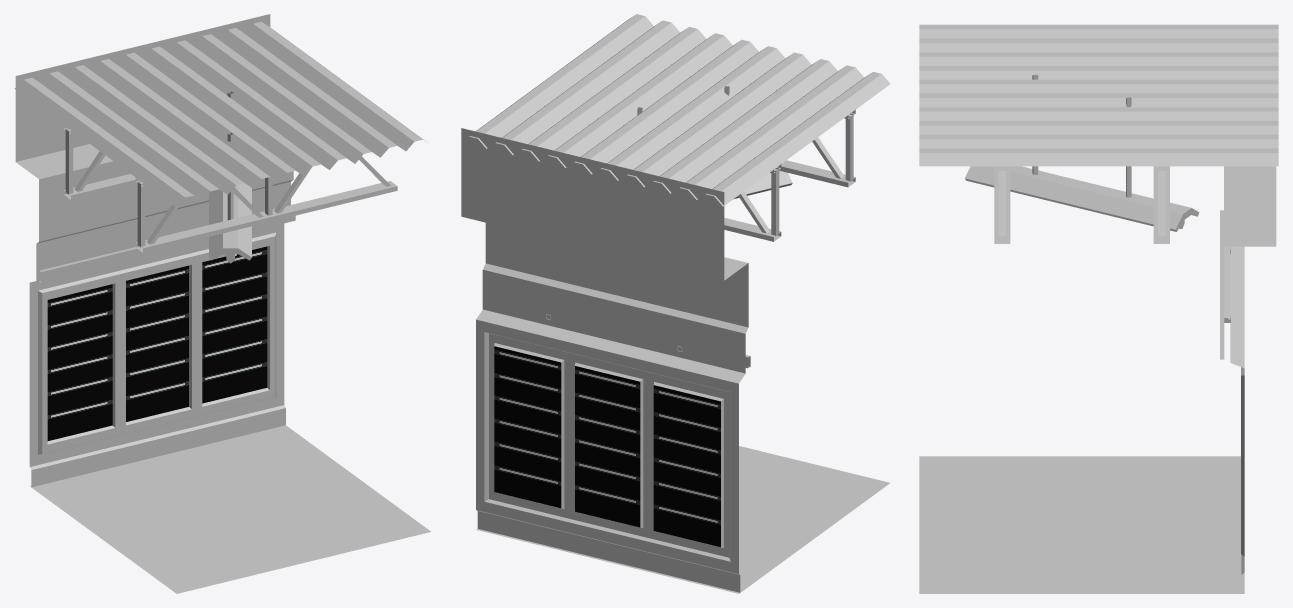
Rendered from Store_Build_Wall_T_0.dae.
The picture shows the model from 3 angles, left to right: view 1: azimuth 30°, elevation 25°; view 2: azimuth 150°, elevation 25°; view 3: azimuth 270°, elevation 25°; orthographic projection. The views are drawn at different scales.
Parts seen in each view (by area): view 1: Store_Wall_T; view 2: Store_Wall_T; view 3: Store_Wall_T.
Boxes of the visible parts, <box> form: Store_Wall_T: <box>14,14,430,593</box>; Store_Wall_T: <box>461,14,890,593</box>; Store_Wall_T: <box>919,24,1278,593</box>.
Bounding box in the file's own units: 2 × 2.21 × 3.
